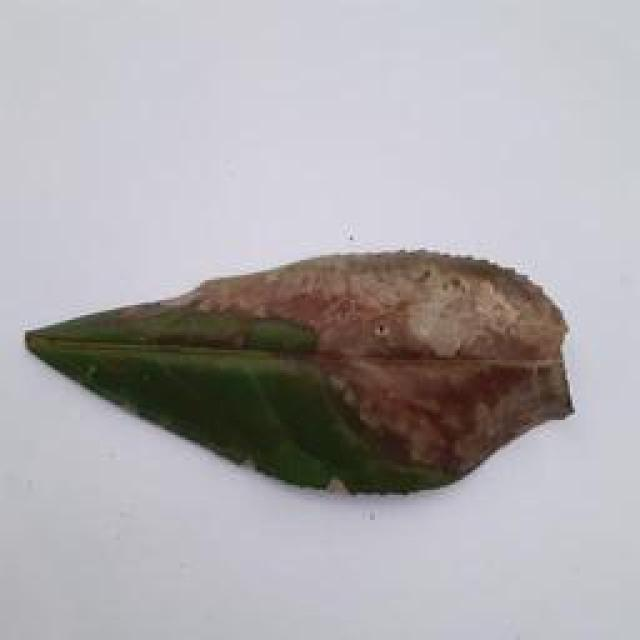Gray Blight: (4, 233, 580, 505)
